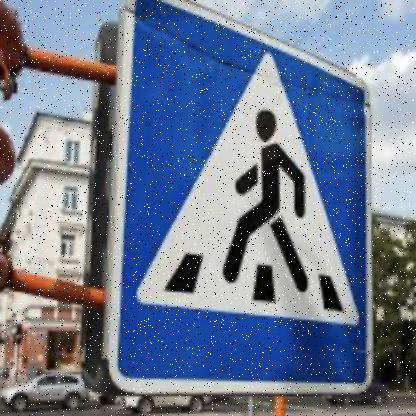Pedestrian Crossing: (125, 1, 365, 379)
